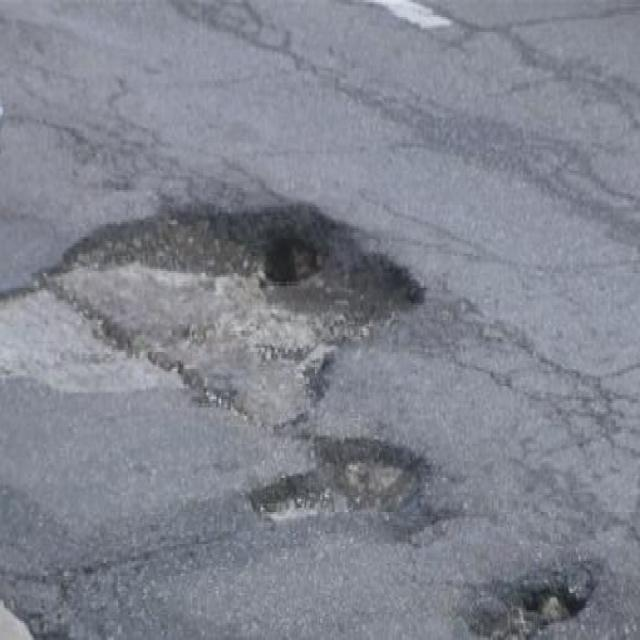Pothole: (38, 195, 432, 428), (249, 430, 443, 526), (456, 554, 606, 637)
